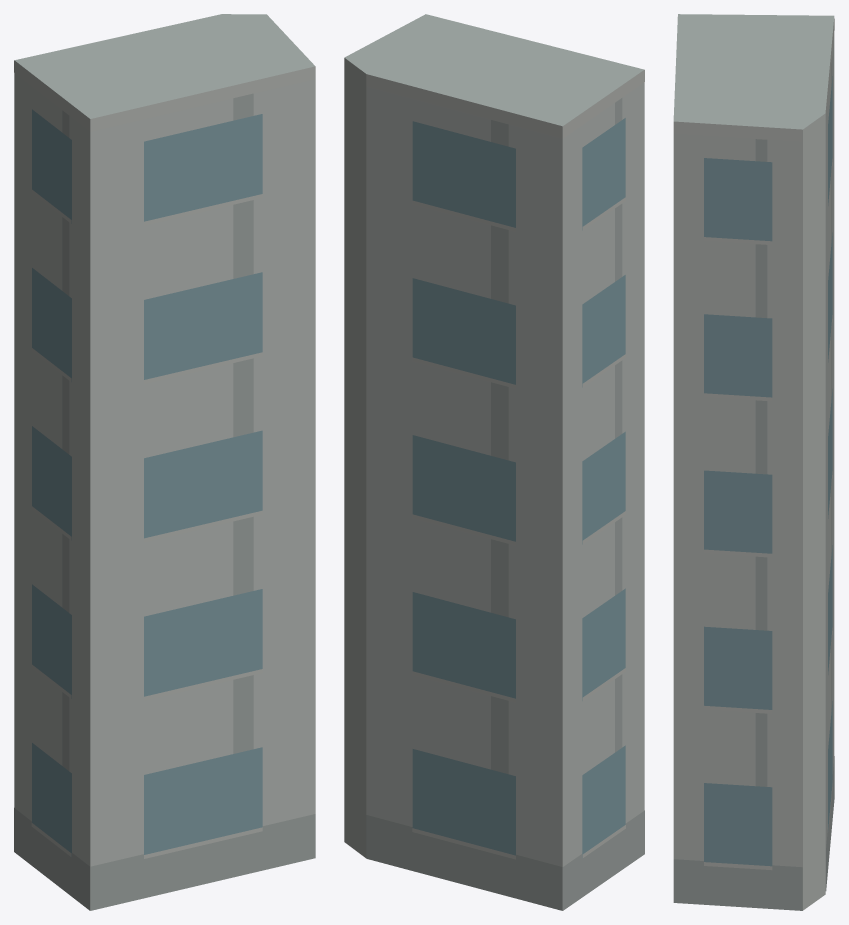
Rendered from survey-upis-32666375.glb.
3 views of the same model, side by side, from view 1: azimuth 30°, elevation 25°; view 2: azimuth 150°, elevation 25°; view 3: azimuth 270°, elevation 25° (orthographic).
Visible parts, largest first — view 1: survey-upis-32666375.tmp; view 2: survey-upis-32666375.tmp; view 3: survey-upis-32666375.tmp.
Boxes of the visible parts, x1,y1,x2,y2 form: survey-upis-32666375.tmp: (14, 14, 315, 910); survey-upis-32666375.tmp: (344, 14, 644, 910); survey-upis-32666375.tmp: (673, 14, 834, 910).
Size of the model in its own units: 4.84 by 15.25 by 2.86.
